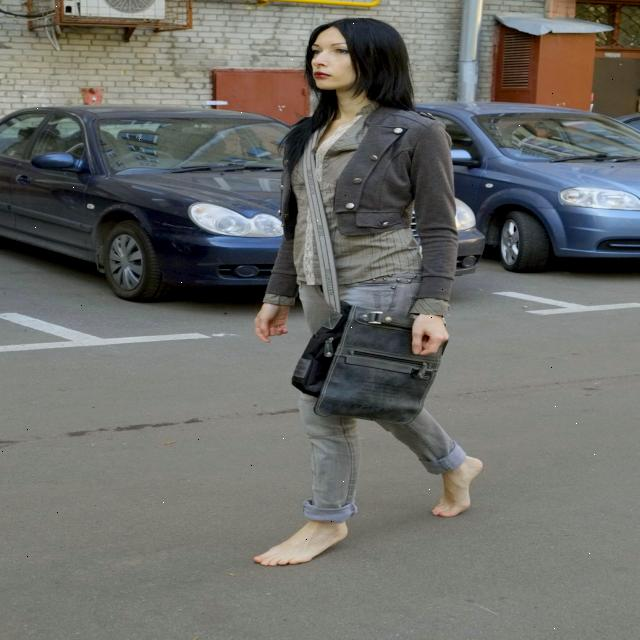No Safety Boots: (253, 520, 348, 566), (431, 456, 483, 517)
